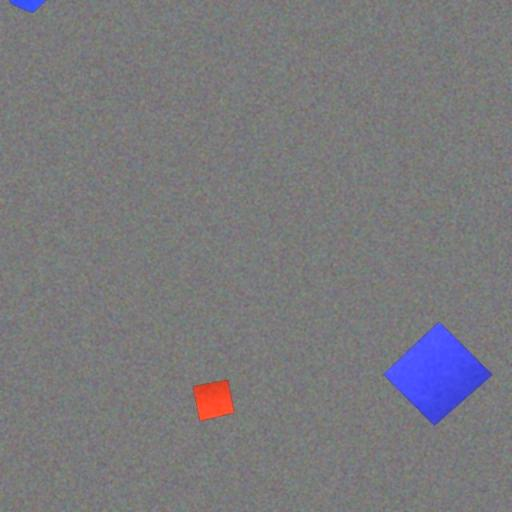BLUE_SQUARE: (383, 321, 494, 426)
RED_SQUARE: (192, 379, 235, 422)
